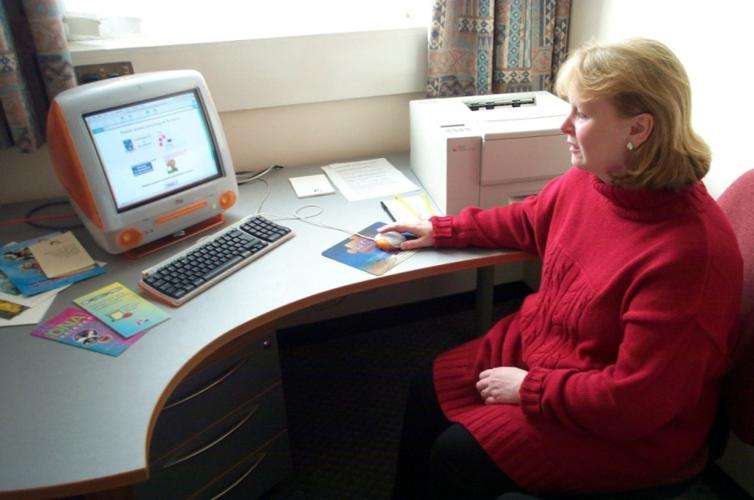person: (376, 38, 746, 500)
